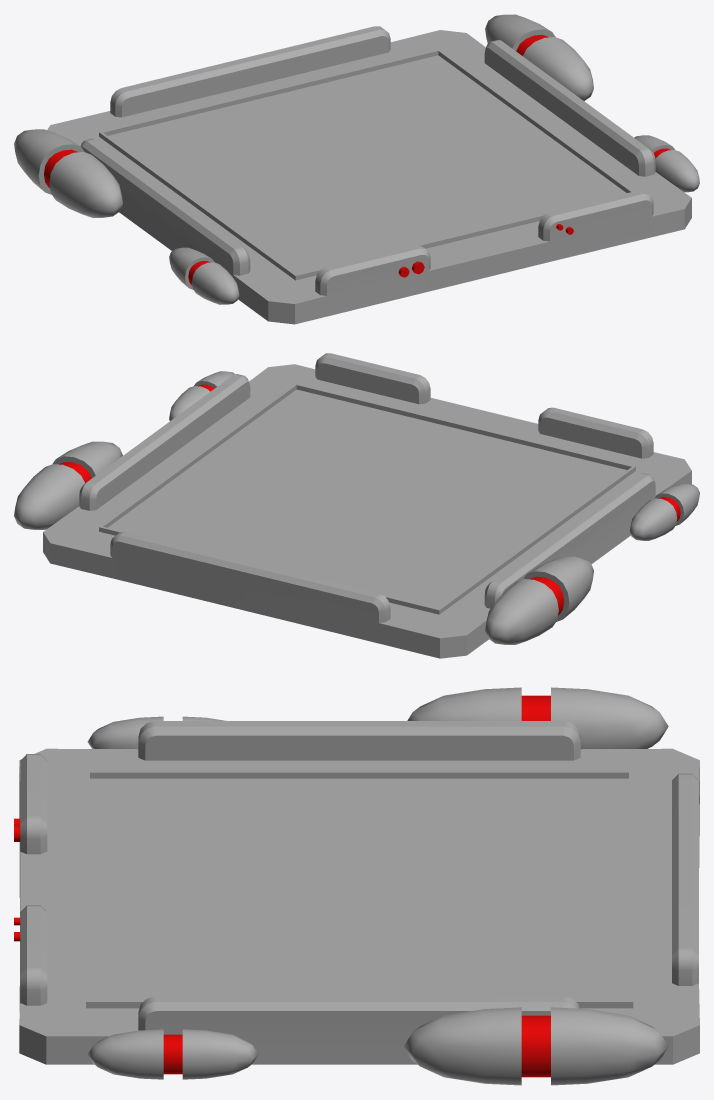
Rendered from Plratefrome_5x5.fbx.
3 renders of one model, top to bottom at view 1: azimuth 30°, elevation 25°; view 2: azimuth 150°, elevation 25°; view 3: azimuth 270°, elevation 25°, orthographic. The views are drawn at different scales.
Parts seen in each view (by area): view 1: Paltfrome1, Hower_Back1, Hower_front1; view 2: Paltfrome1, Hower_Back1, Hower_front1; view 3: Paltfrome1, Hower_Back1, Hower_front1.
Part boxes in pixels (x1,y1,x2,y2): Paltfrome1: [47, 26, 691, 324]; Hower_Back1: [14, 14, 593, 217]; Hower_front1: [169, 135, 699, 304]; Paltfrome1: [43, 353, 691, 658]; Hower_Back1: [14, 441, 593, 644]; Hower_front1: [169, 371, 699, 540]; Paltfrome1: [19, 721, 699, 1064]; Hower_Back1: [404, 687, 668, 1085]; Hower_front1: [87, 716, 258, 1079].
Size of the model in its own units: 616 by 56.23 by 505.
